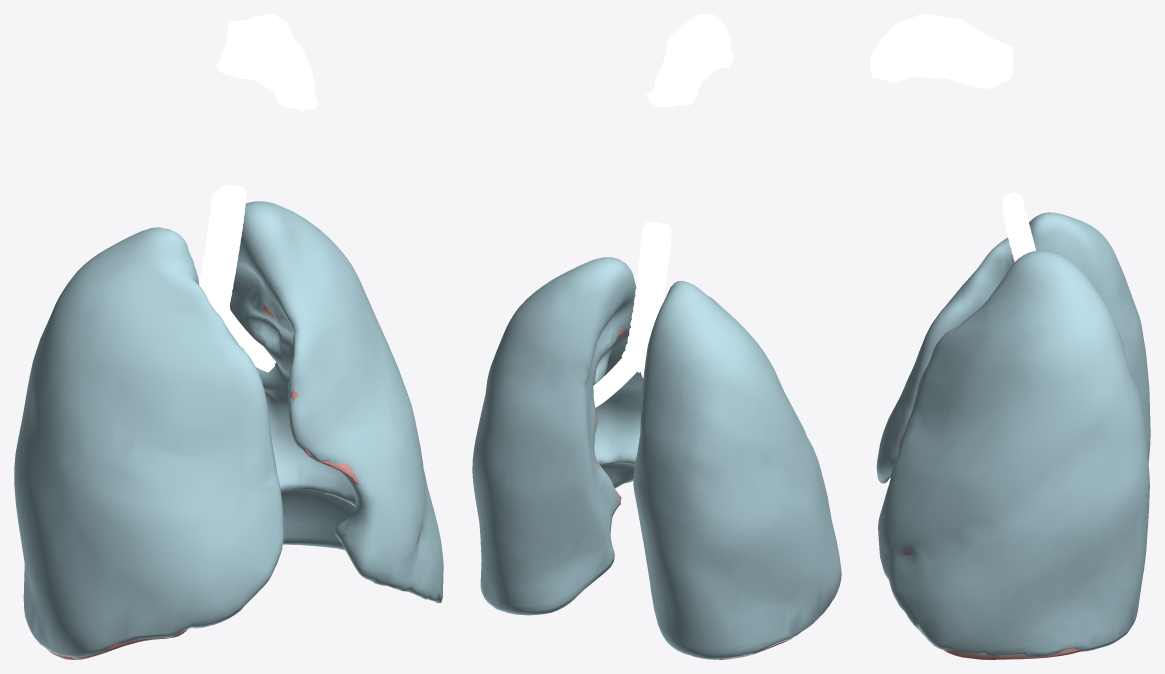
File: respiratory.glb
3 renders of one model, left to right at view 1: azimuth 30°, elevation 25°; view 2: azimuth 150°, elevation 25°; view 3: azimuth 270°, elevation 25°, orthographic. The views are drawn at different scales.
Visible parts, largest first — view 1: Pleura.001, Mucosa of nasal cavity.001, Trachea.001, Nasopharynx.001, Left main bronchus.001; view 2: Pleura.001, Trachea.001, Nasopharynx.001, Mucosa of nasal cavity.001, Left main bronchus.001; view 3: Pleura.001, Mucosa of nasal cavity.001, Nasopharynx.001, Trachea.001, Inferior lobe of left lung.001.
Boxes of the visible parts, box(x1,y1,x2,y2) form: Pleura.001: box(14, 201, 443, 658); Mucosa of nasal cavity.001: box(239, 14, 318, 111); Trachea.001: box(199, 184, 246, 321); Nasopharynx.001: box(216, 15, 262, 78); Left main bronchus.001: box(221, 310, 273, 371); Pleura.001: box(472, 257, 841, 659); Trachea.001: box(621, 222, 671, 372); Nasopharynx.001: box(645, 36, 698, 107); Mucosa of nasal cavity.001: box(671, 14, 733, 91); Left main bronchus.001: box(593, 345, 641, 407); Pleura.001: box(876, 212, 1150, 657); Mucosa of nasal cavity.001: box(870, 14, 963, 84); Nasopharynx.001: box(961, 19, 1013, 88); Trachea.001: box(1002, 192, 1035, 261); Inferior lobe of left lung.001: box(943, 648, 1082, 659).
Bounding box in the file's own units: 0.2633 × 0.4306 × 0.1926.
